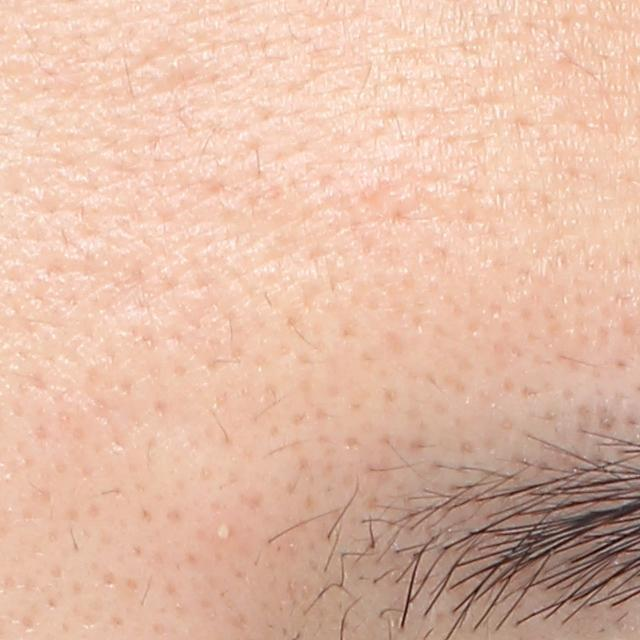pustule: (212, 520, 237, 546)
